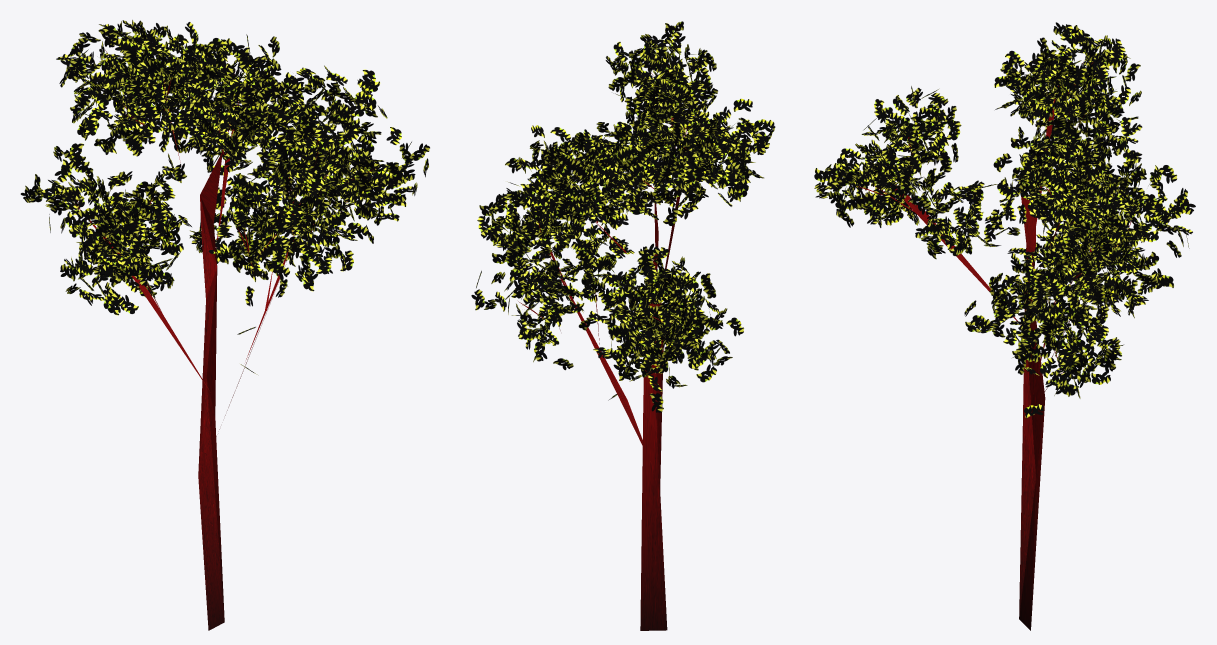
The model's file is cottonwood_river_v01_LOD2.glb.
3 renders of one model, left to right at view 1: azimuth 30°, elevation 25°; view 2: azimuth 150°, elevation 25°; view 3: azimuth 270°, elevation 25°, orthographic. The views are drawn at different scales.
Parts seen in each view (by area): view 1: cottonwood_river_v01_LOD2; view 2: cottonwood_river_v01_LOD2; view 3: cottonwood_river_v01_LOD2.
Part boxes in pixels (box(x1,y1,x2,y2)): cottonwood_river_v01_LOD2: box(20, 20, 429, 630); cottonwood_river_v01_LOD2: box(471, 21, 775, 630); cottonwood_river_v01_LOD2: box(814, 22, 1195, 630).
Bounding box in the file's own units: 16.6 × 30.28 × 18.93.
Materials: 2 (2 with a texture image).
